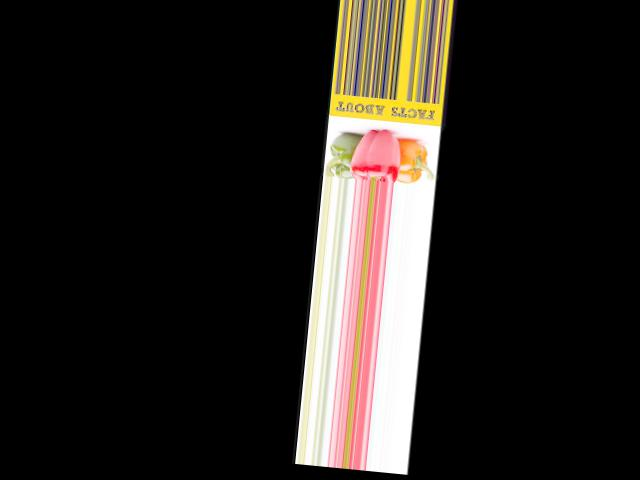bell_pepper: (324, 123, 357, 178)
